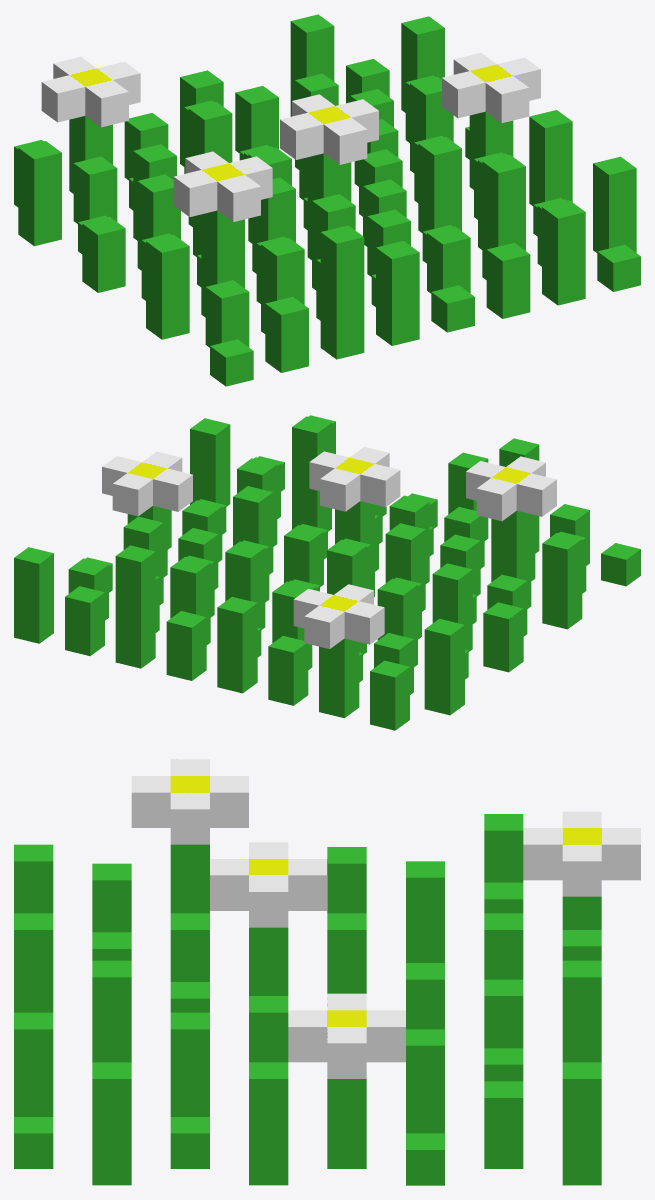
File: Grass_Carpet.fbx
The picture shows the model from 3 angles, top to bottom: view 1: azimuth 30°, elevation 25°; view 2: azimuth 150°, elevation 25°; view 3: azimuth 270°, elevation 25°; orthographic projection. The views are drawn at different scales.
Parts seen in each view (by area): view 1: Grass_Carpet; view 2: Grass_Carpet; view 3: Grass_Carpet.
Part boxes in pixels (x1,y1,x2,y2): Grass_Carpet: [14, 14, 640, 386]; Grass_Carpet: [14, 415, 640, 730]; Grass_Carpet: [14, 759, 640, 1185].
Bounding box in the file's own units: 100 × 31.25 × 100.
Materials: 1 (1 with a texture image).
